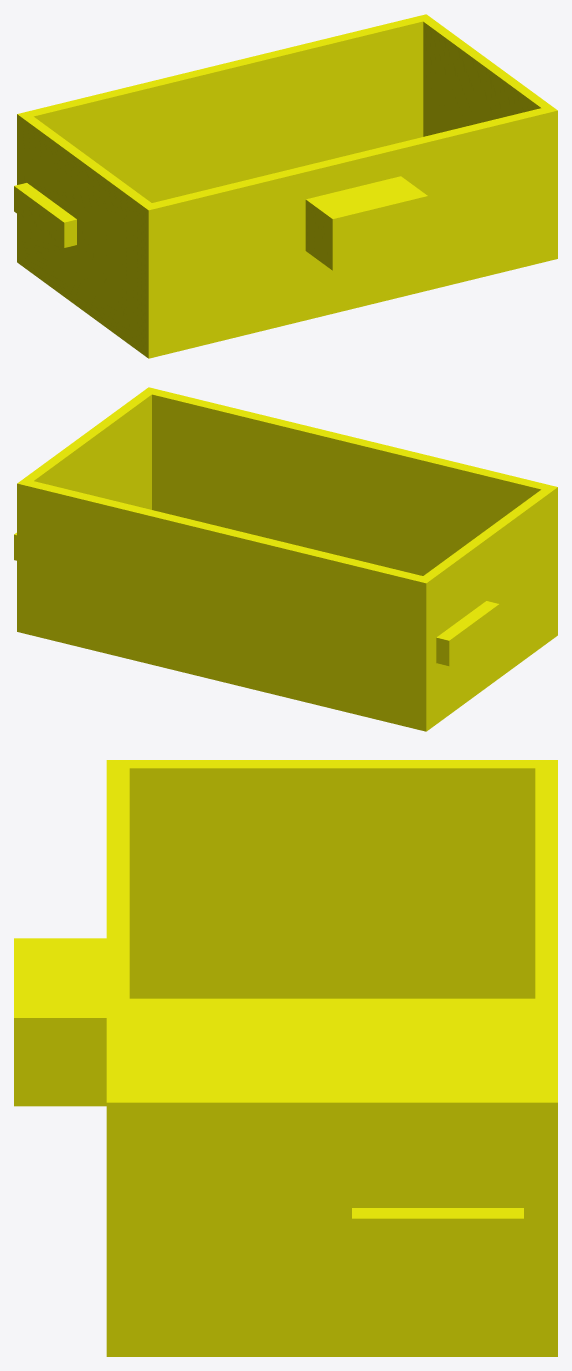
The model's file is Drawer1.obj.
3 views of the same model, one above another, from view 1: azimuth 30°, elevation 25°; view 2: azimuth 150°, elevation 25°; view 3: azimuth 270°, elevation 25° (orthographic). The views are drawn at different scales.
Parts seen in each view (by area): view 1: Drawer1; view 2: Drawer1; view 3: Drawer1.
Boxes of the visible parts, x1,y1,x2,y2 form: Drawer1: [14, 14, 557, 358]; Drawer1: [14, 387, 557, 731]; Drawer1: [14, 760, 557, 1356].
Bounding box in the file's own units: 5.55 × 1.81 × 3.5.
